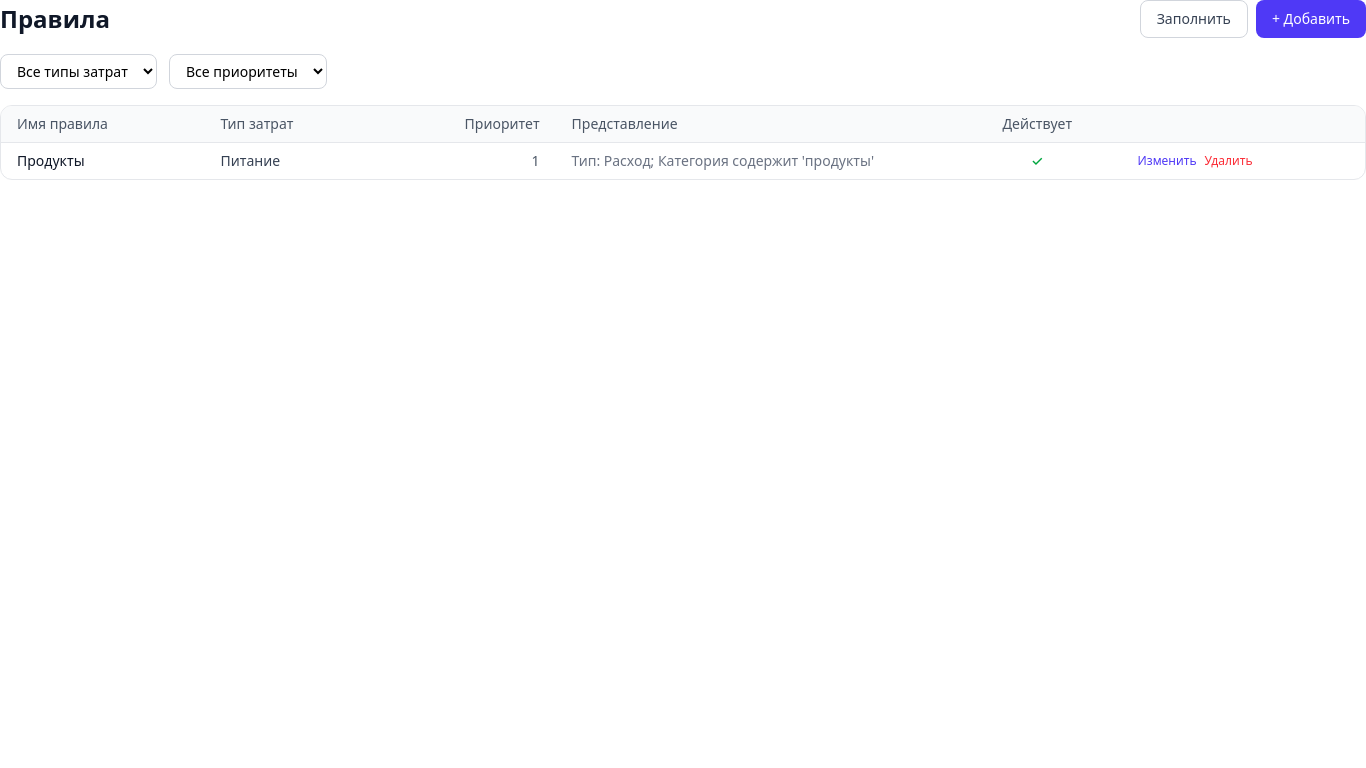
it: Rules page › opens RuleEditModal in edit mode with pre-filled data when Изменить is clicked
Click the button "Изменить" at [1167, 161], box [1138,153,1196,169]
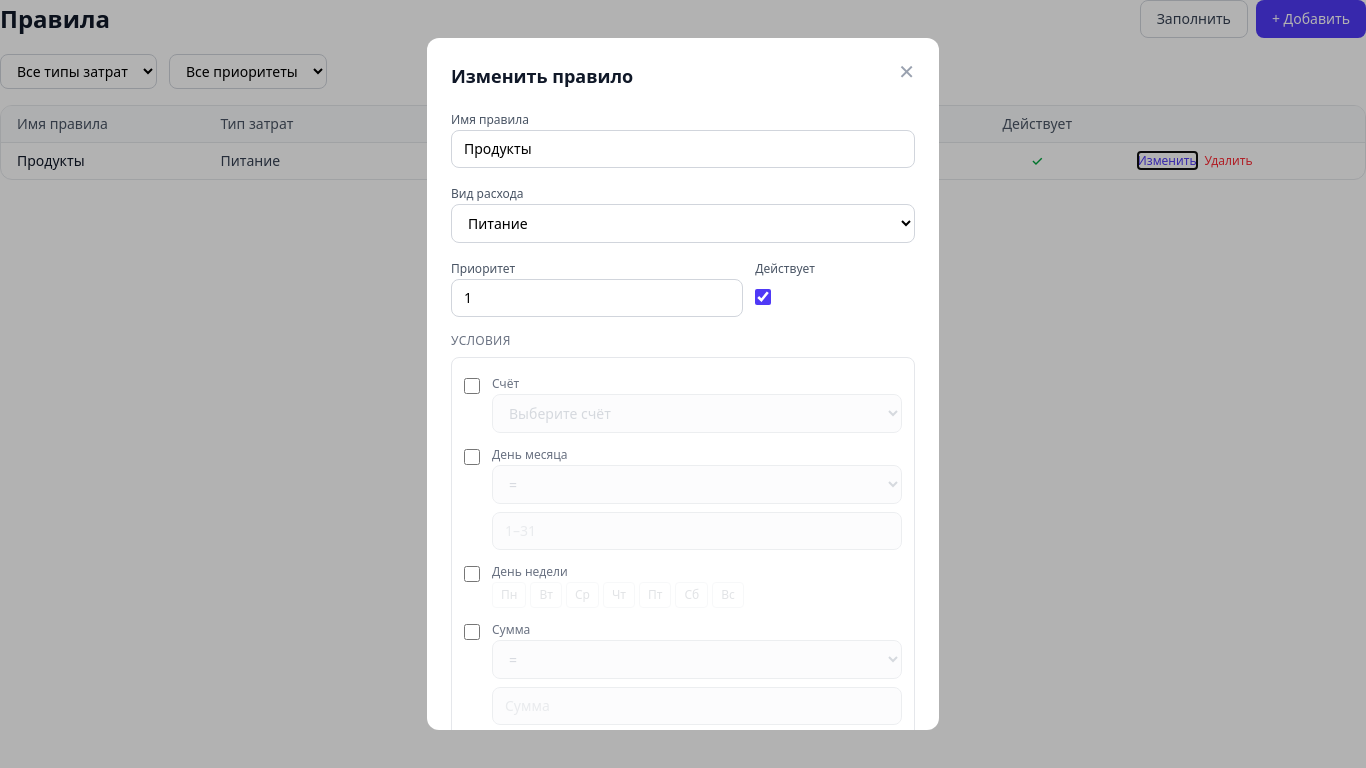
expect the heading "Изменить правило" is shown: met, box [451,62,633,90]
expect the field showing "Продукты" is shown: met, box [451,130,915,168]
expect the number field showing "1" is shown: met, box [451,279,743,317]
